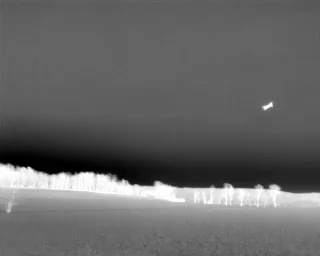DRONE: (258, 97, 279, 116)
